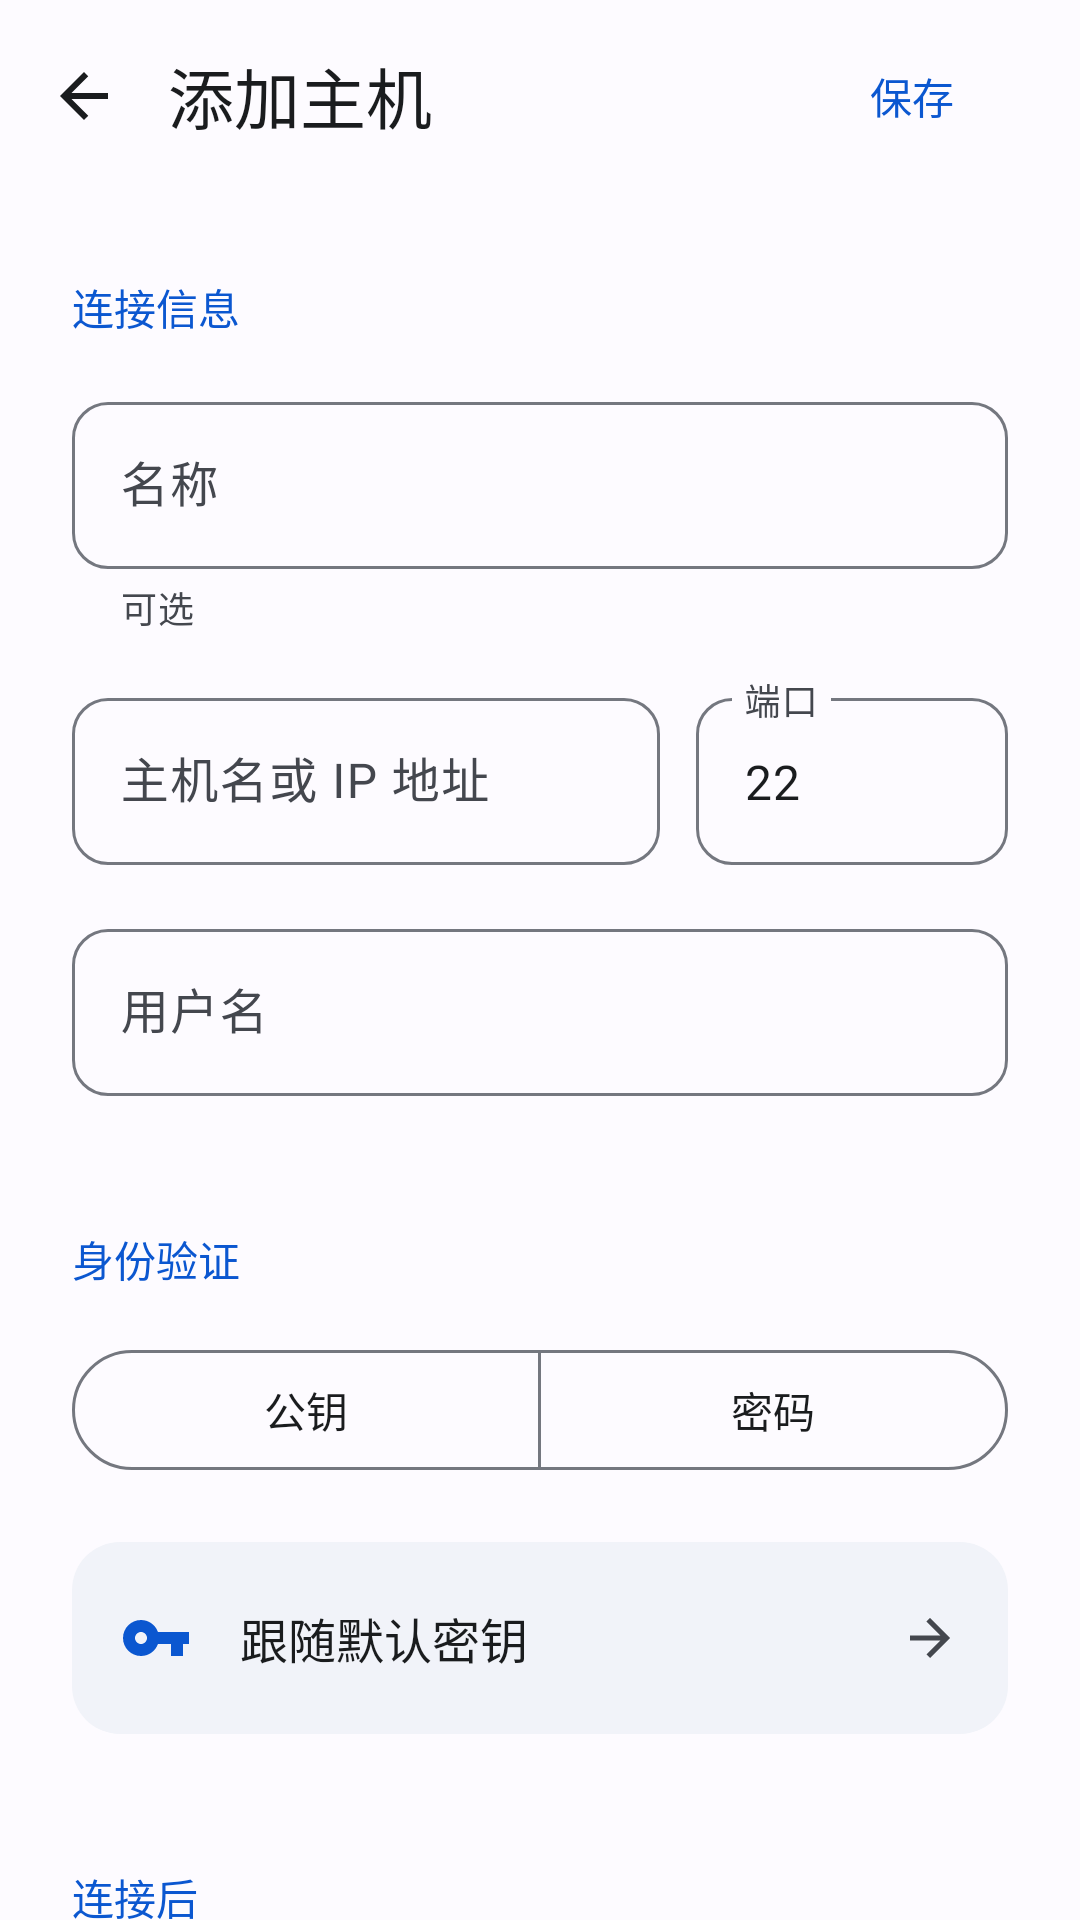

Named icons in this screenshot (1080 × 1920) and their centers, point (x, y):
arrow forward: point (930, 1638)
key: point (156, 1638)
返回: point (84, 96)
